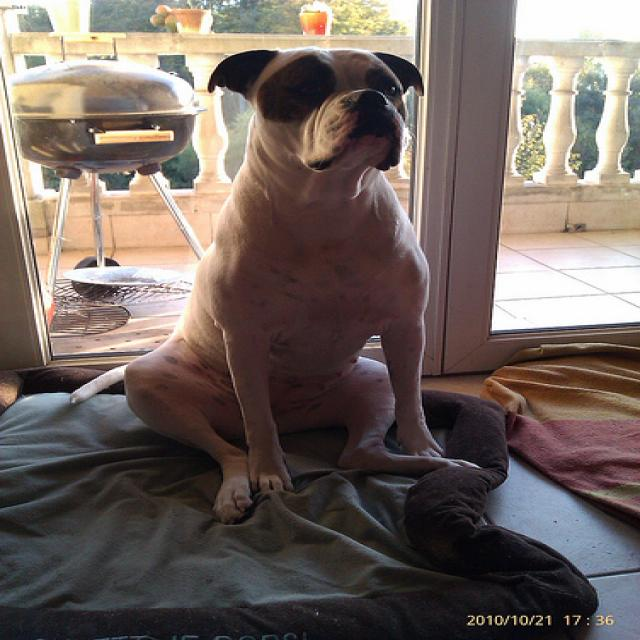dog-american_bulldog: (48, 41, 489, 538)
